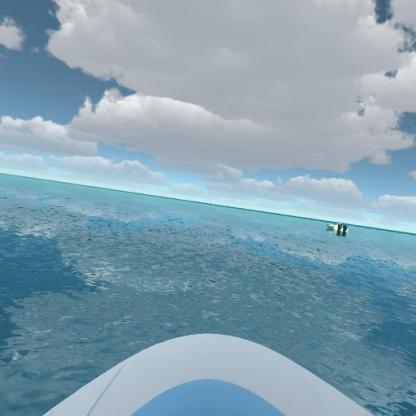usv0: (324, 220, 350, 238)
